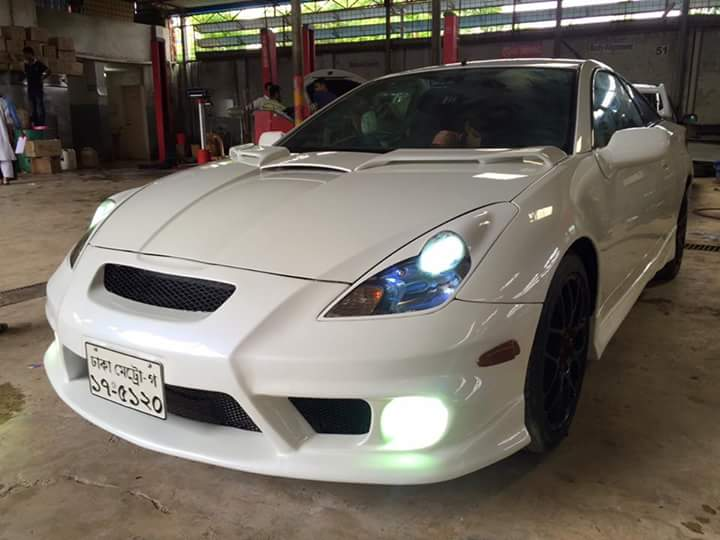registration_plate: (85, 343, 166, 420)
